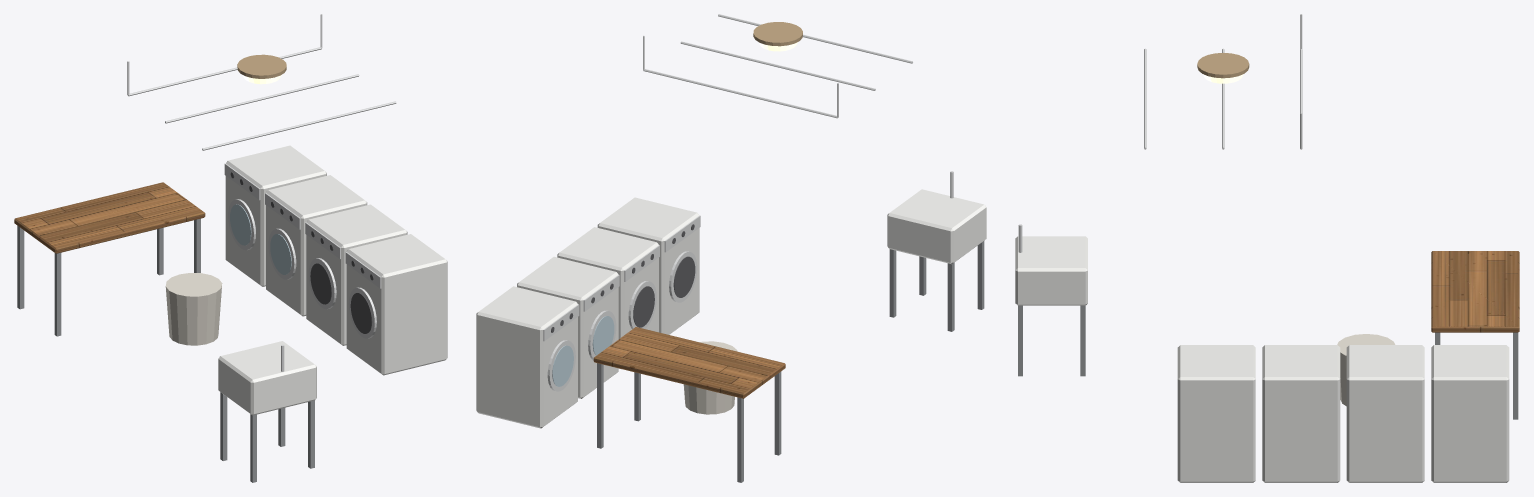
Rendered from laundry.glb.
3 renders of one model, left to right at view 1: azimuth 30°, elevation 25°; view 2: azimuth 150°, elevation 25°; view 3: azimuth 270°, elevation 25°, orthographic. The views are drawn at different scales.
Visible parts, largest first — view 1: laundry_appliance, laundry_wood, laundry_chrome, laundry_porcelain, laundry_steel, laundry_cloth, laundry_dark, laundry_glass, laundry_bronze; view 2: laundry_appliance, laundry_wood, laundry_porcelain, laundry_chrome, laundry_steel, laundry_dark, laundry_glass, laundry_cloth, laundry_bronze; view 3: laundry_appliance, laundry_wood, laundry_porcelain, laundry_steel, laundry_bronze, laundry_chrome, laundry_cloth.
Boxes of the visible parts, x1,y1,x2,y2 form: laundry_appliance: [225, 145, 447, 375]; laundry_wood: [14, 182, 205, 253]; laundry_chrome: [127, 14, 396, 371]; laundry_porcelain: [218, 341, 316, 415]; laundry_steel: [17, 218, 314, 482]; laundry_cloth: [165, 273, 222, 345]; laundry_dark: [230, 172, 373, 333]; laundry_glass: [230, 204, 291, 274]; laundry_bronze: [237, 54, 286, 78]; laundry_appliance: [476, 197, 699, 428]; laundry_wood: [593, 327, 785, 398]; laundry_porcelain: [887, 189, 986, 264]; laundry_chrome: [543, 14, 953, 391]; laundry_steel: [597, 241, 984, 482]; laundry_dark: [551, 224, 695, 332]; laundry_glass: [552, 316, 614, 386]; laundry_cloth: [683, 341, 737, 414]; laundry_bronze: [753, 22, 802, 46]; laundry_appliance: [1177, 345, 1509, 482]; laundry_wood: [1431, 251, 1519, 332]; laundry_porcelain: [1015, 236, 1087, 305]; laundry_steel: [1018, 305, 1518, 419]; laundry_bronze: [1197, 52, 1249, 78]; laundry_chrome: [1018, 14, 1302, 252]; laundry_cloth: [1337, 334, 1395, 406].
Size of the model in its own units: 2.56 by 2.85 by 3.88.
10 materials, 1 textured.
